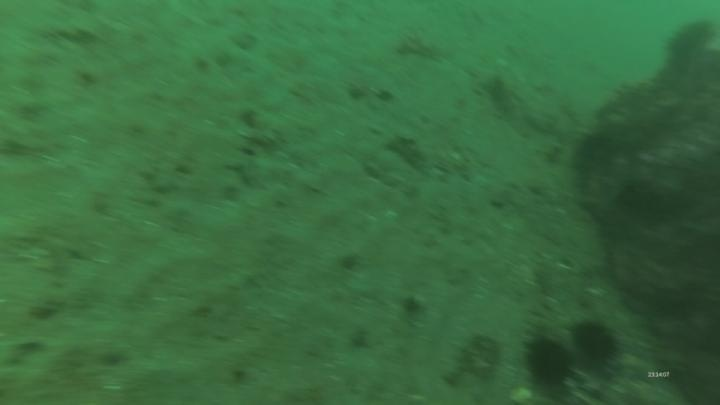echinus: (522, 333, 577, 390), (661, 17, 716, 73), (569, 318, 621, 367)
